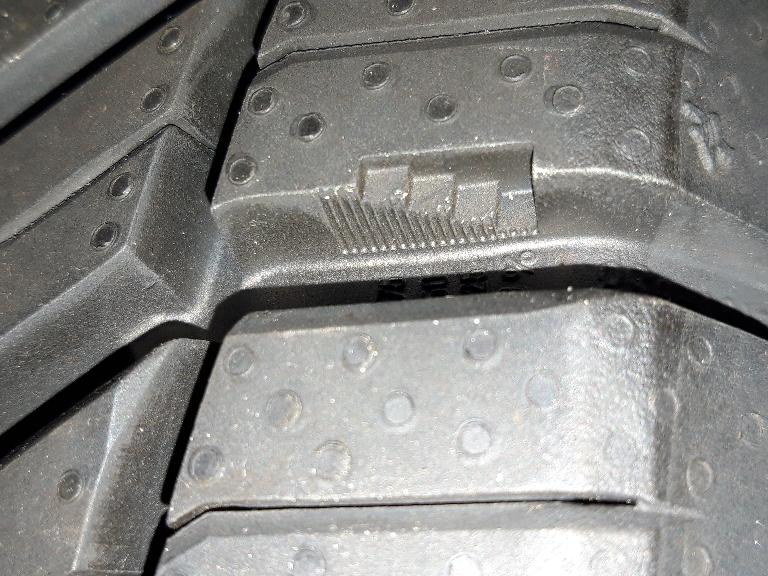temoin:100: (307, 132, 557, 263)
